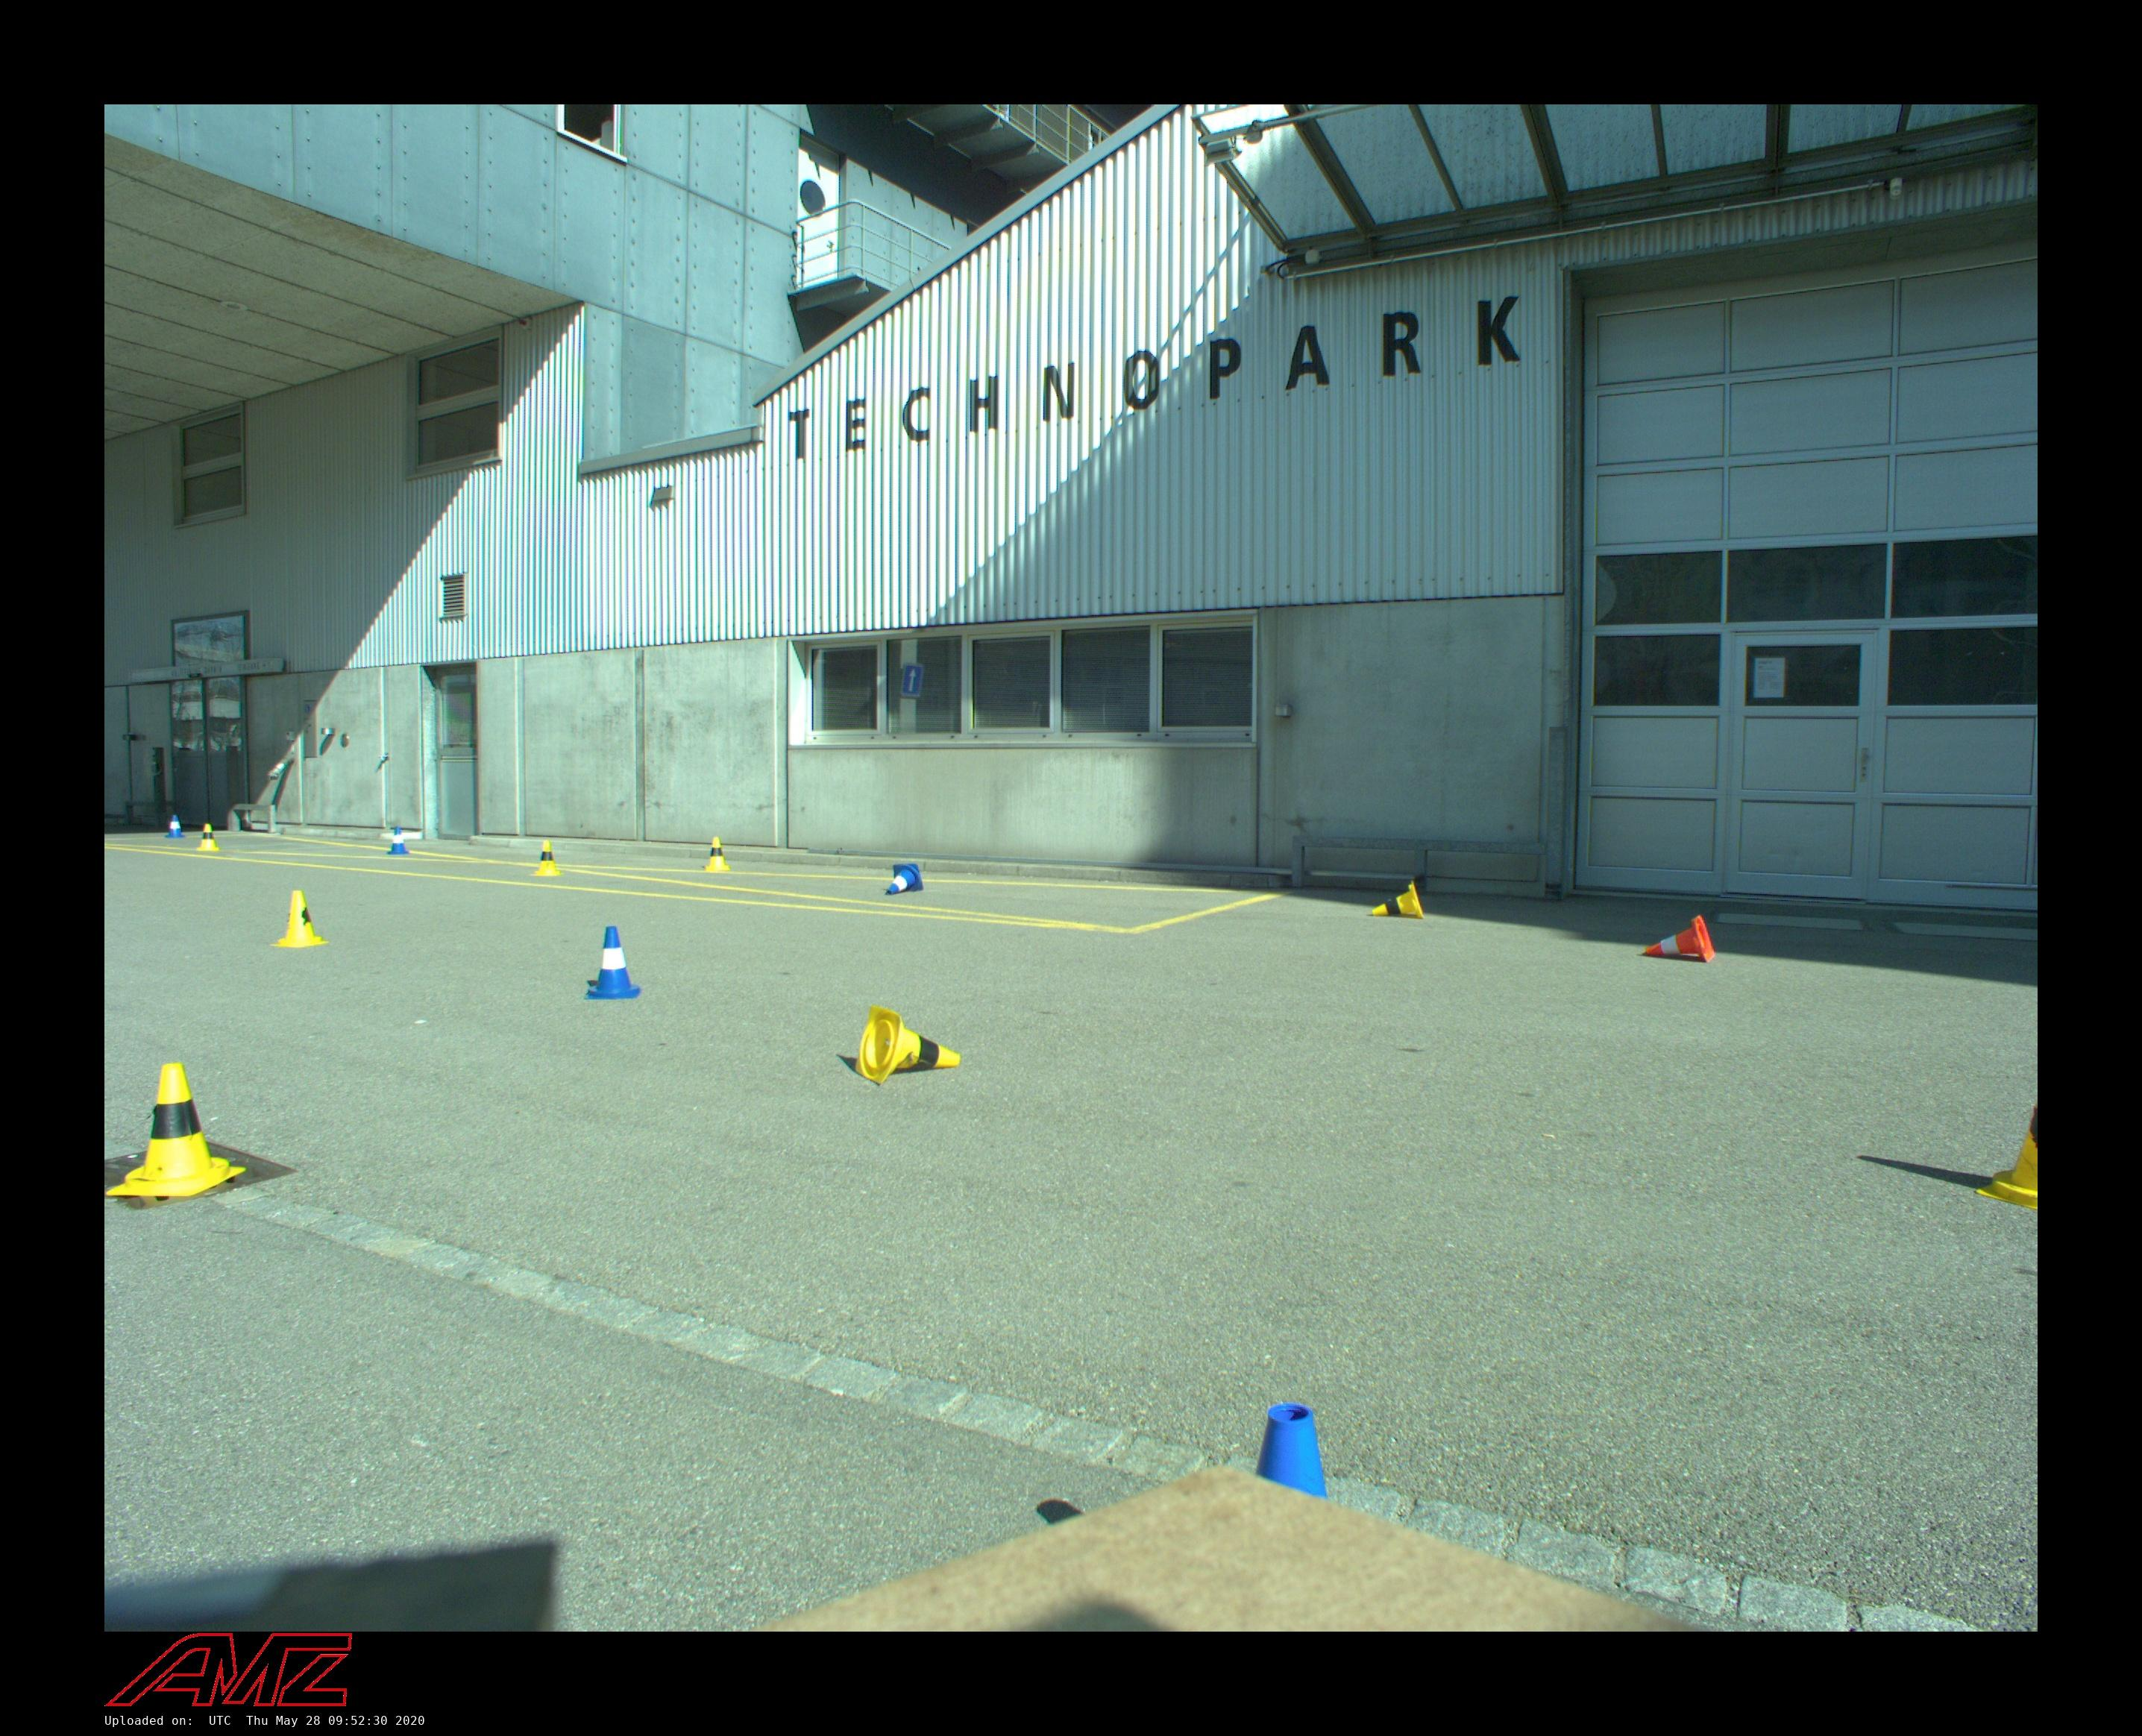blue_cone: (585, 925, 641, 999), (886, 863, 923, 895), (386, 827, 409, 856), (165, 815, 184, 838)
orange_cone: (1646, 916, 1715, 962)
yellow_cone: (106, 1063, 246, 1196), (856, 1004, 960, 1086), (269, 891, 330, 948), (1373, 880, 1424, 919), (703, 836, 730, 872), (535, 840, 560, 877), (197, 824, 220, 850)
